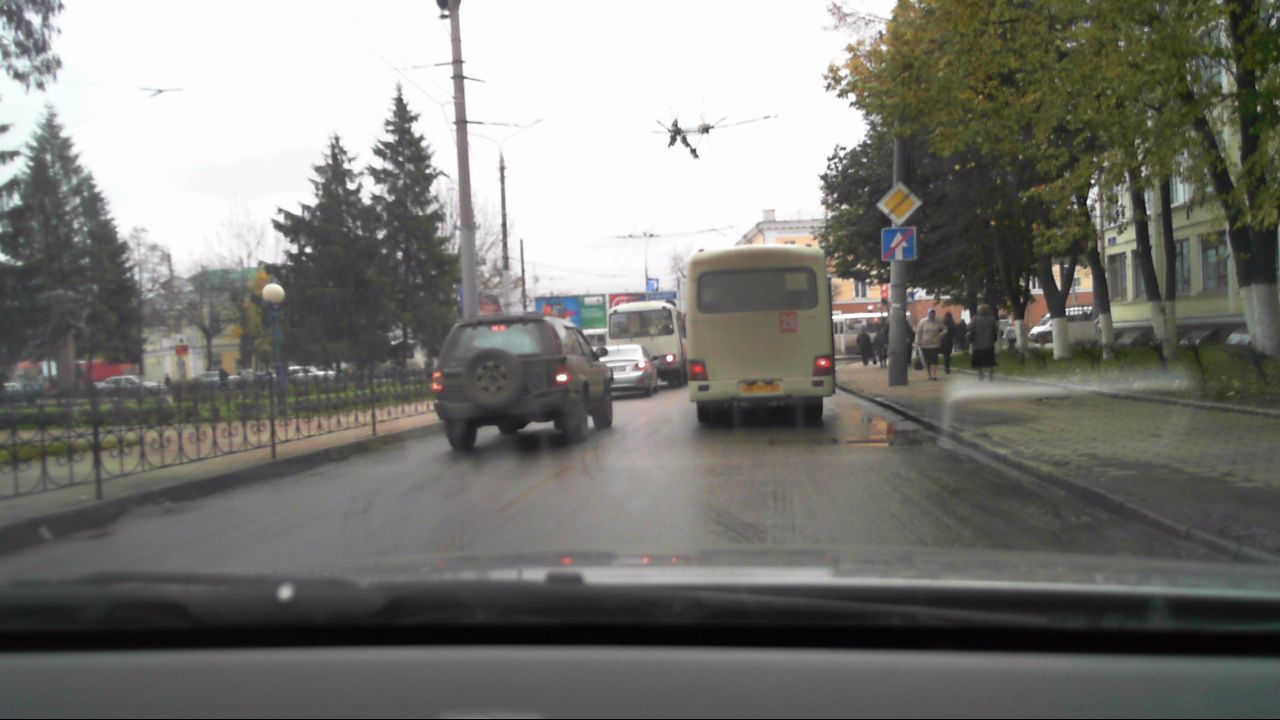main road: (873, 180, 923, 226)
